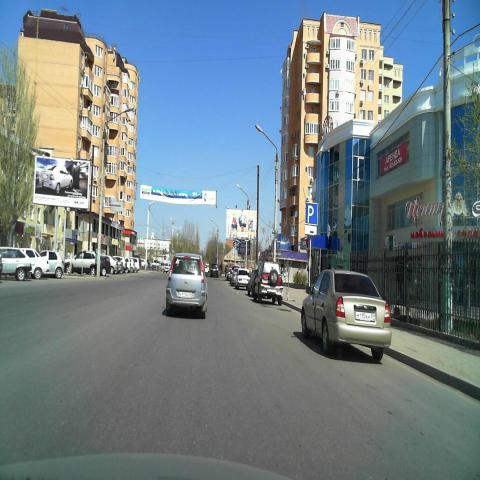8_6_2: (305, 226, 317, 235)
